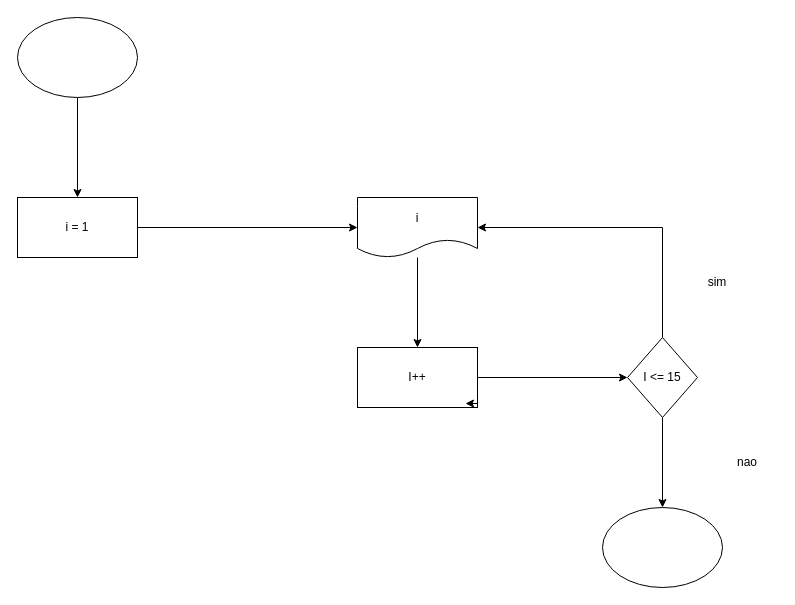
Image size: 795x605. Some labels were removed from this diagram. The shapes that lost their labels are listed below. From the top down, each one's centre as x and y in pixels, then its label:
At (77,57): "início".
At (662,547): "fim".
